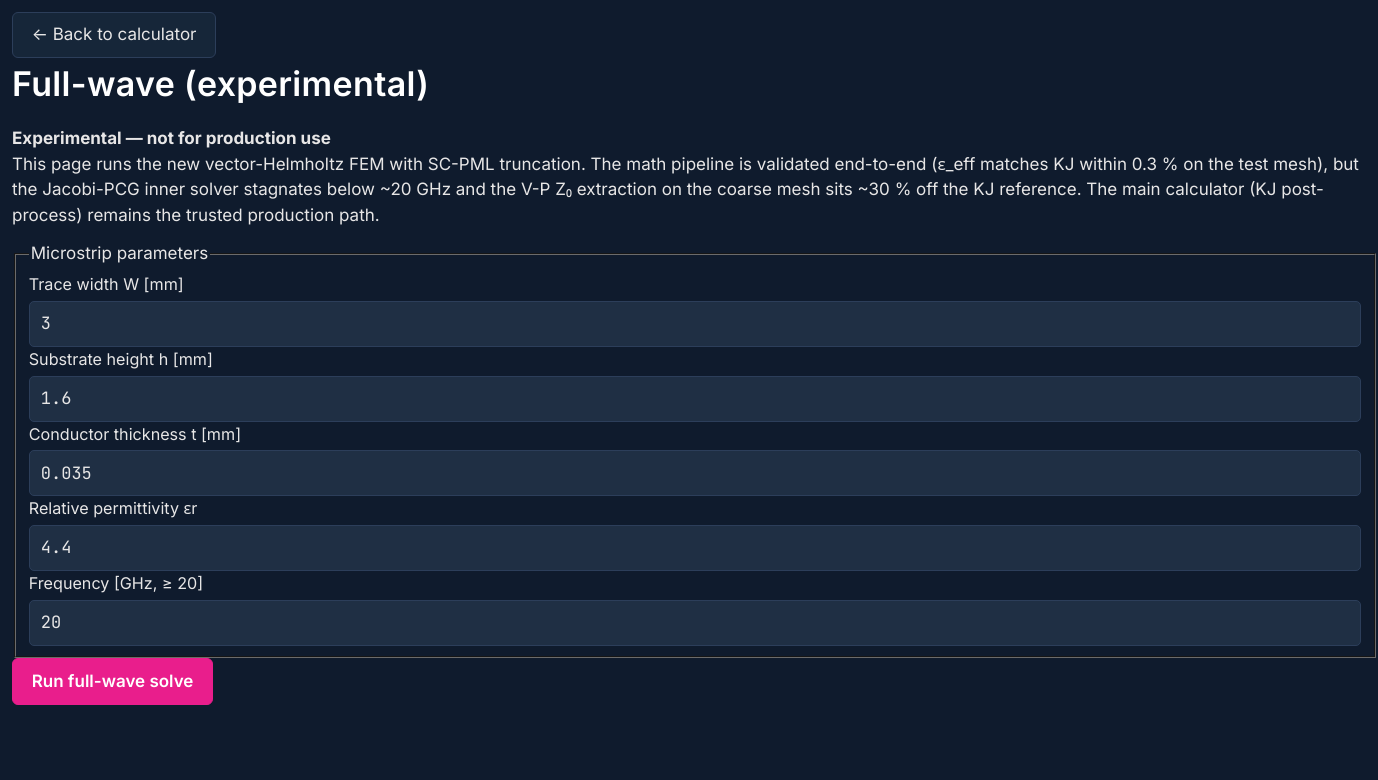
Test case: FullWavePage smoke › shows a low-frequency warning when the user enters < 20 GHz
The image size is (1378, 780).
Replace the text in the number field labelled "Frequency [GHz, ≥ 20]" with "10" at x=695, y=623, box [29,600,1361,646]
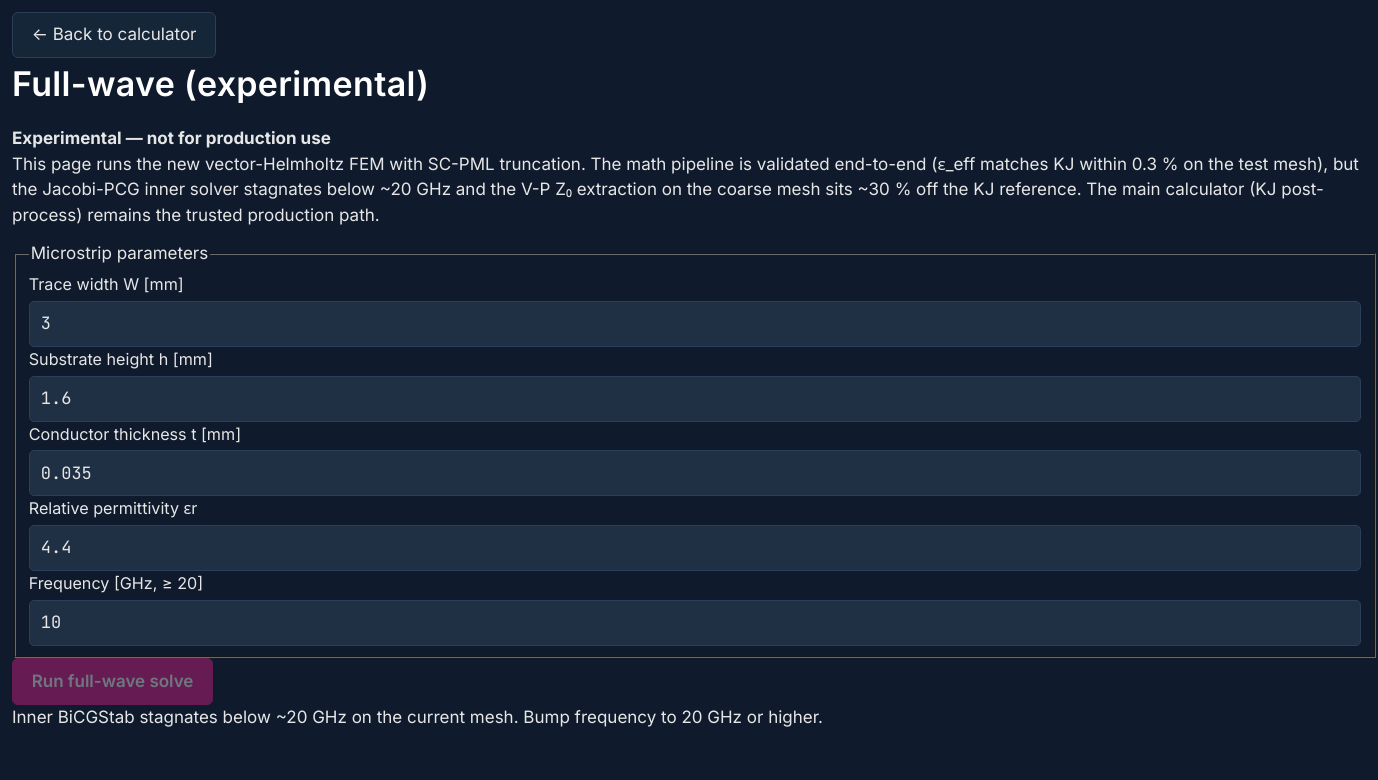
Check: the text with class "fullwave-page__warn" shows "stagnates", box [12,706,823,726]
Check: the button "Run full-wave solve" is disabled, box [12,658,213,705]
